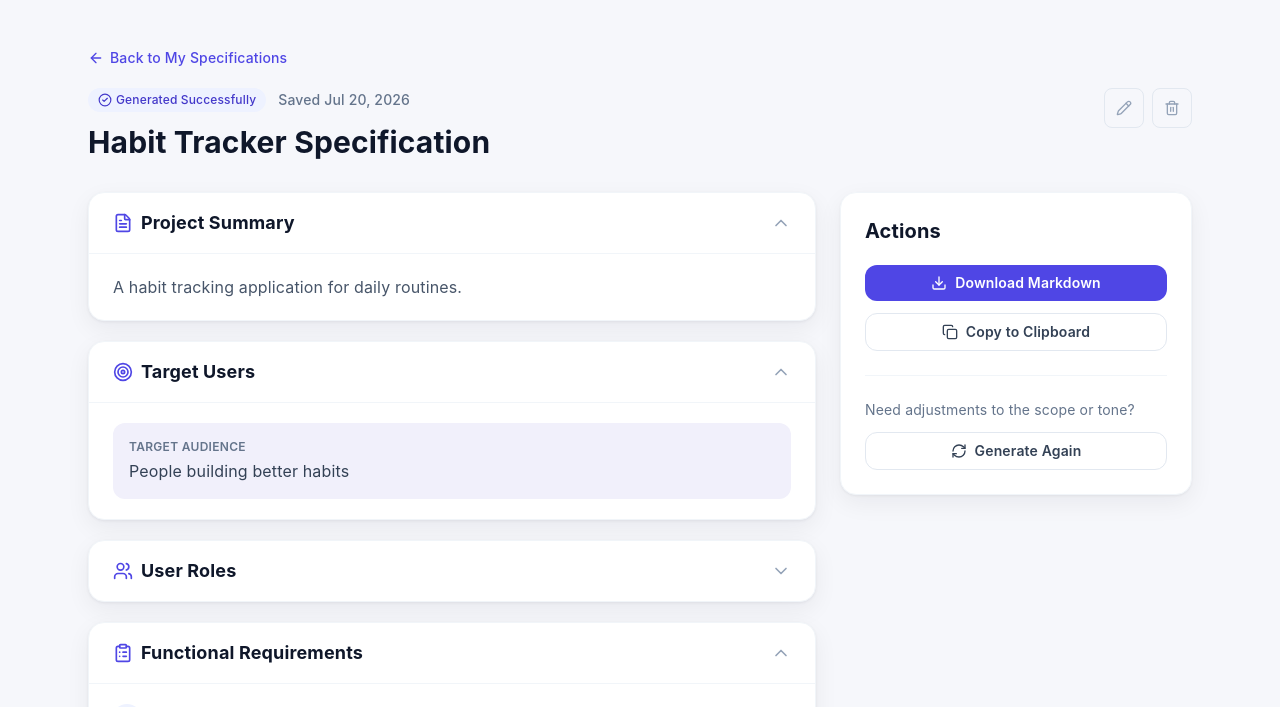
Test: renaming a saved specification › shows a friendly error and keeps the old title when saving fails
The image size is (1280, 707).
Expected: the heading "Habit Tracker Specification" is shown, [88, 124, 490, 160]
Step 1. Click the button named "edit specification title" → (1124, 108), box [1104, 88, 1144, 128]
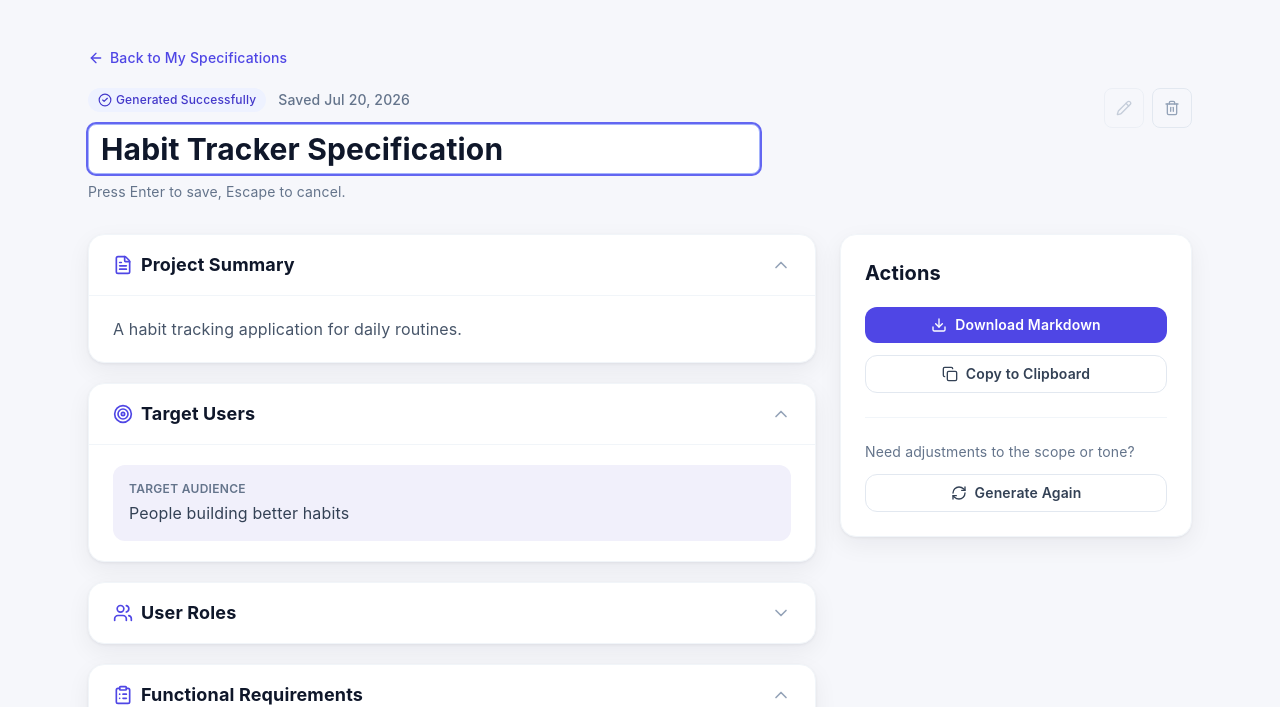
Step 2. Replace the text in the field named "specification title" with "Will Not Save" → (424, 149), box [88, 124, 760, 174]
Then press Enter
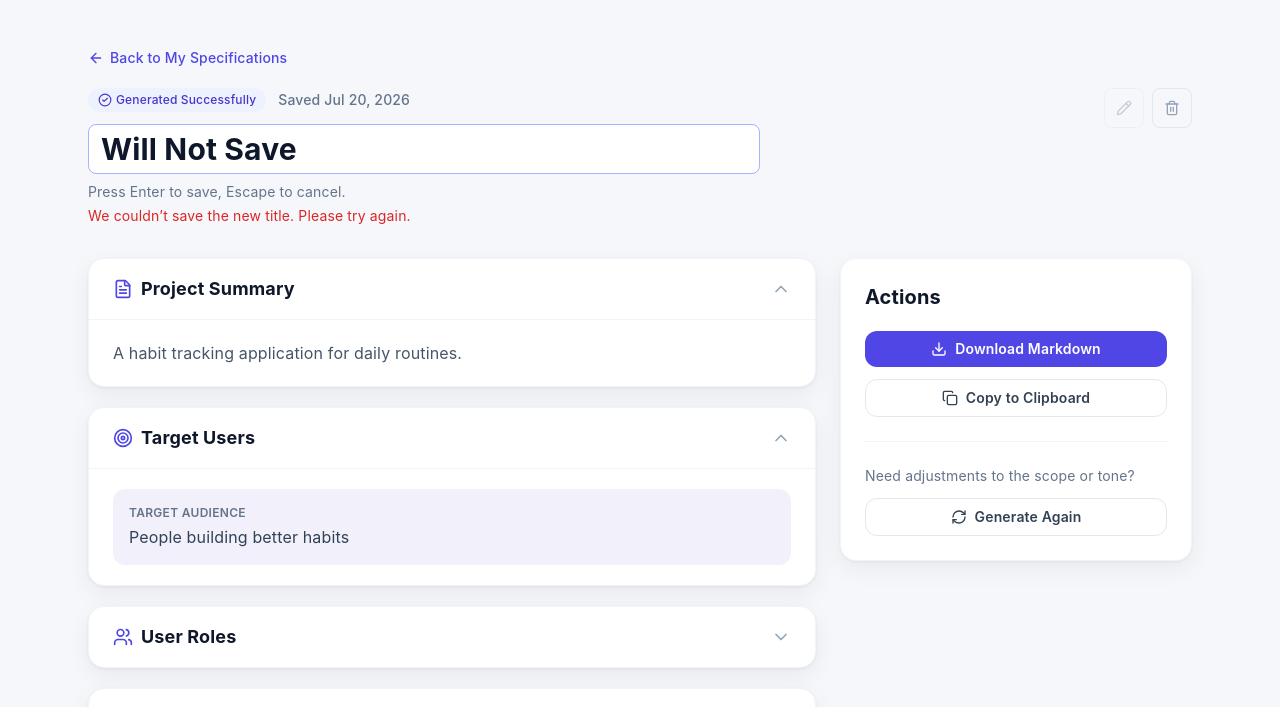
Now the message shows "couldn’t save the new title", box [88, 207, 411, 224]
